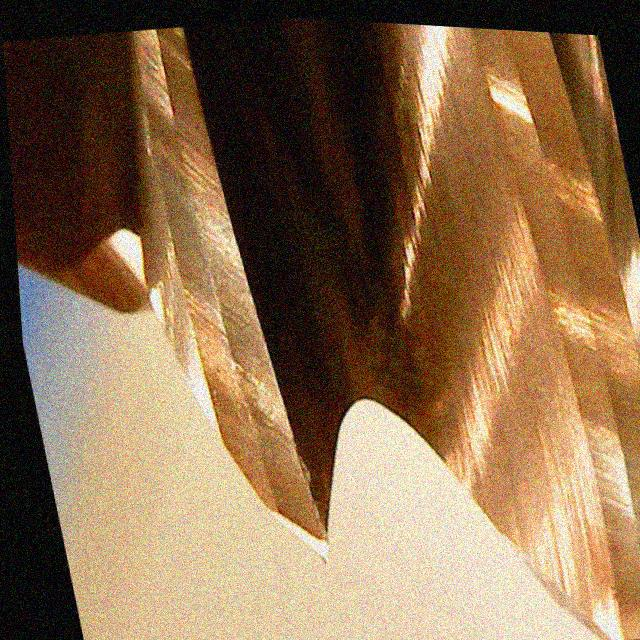Tool-wear-class-0: (131, 194, 351, 583)
